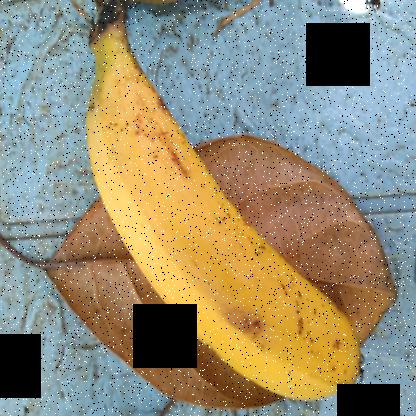ripe: (73, 70, 393, 407)
